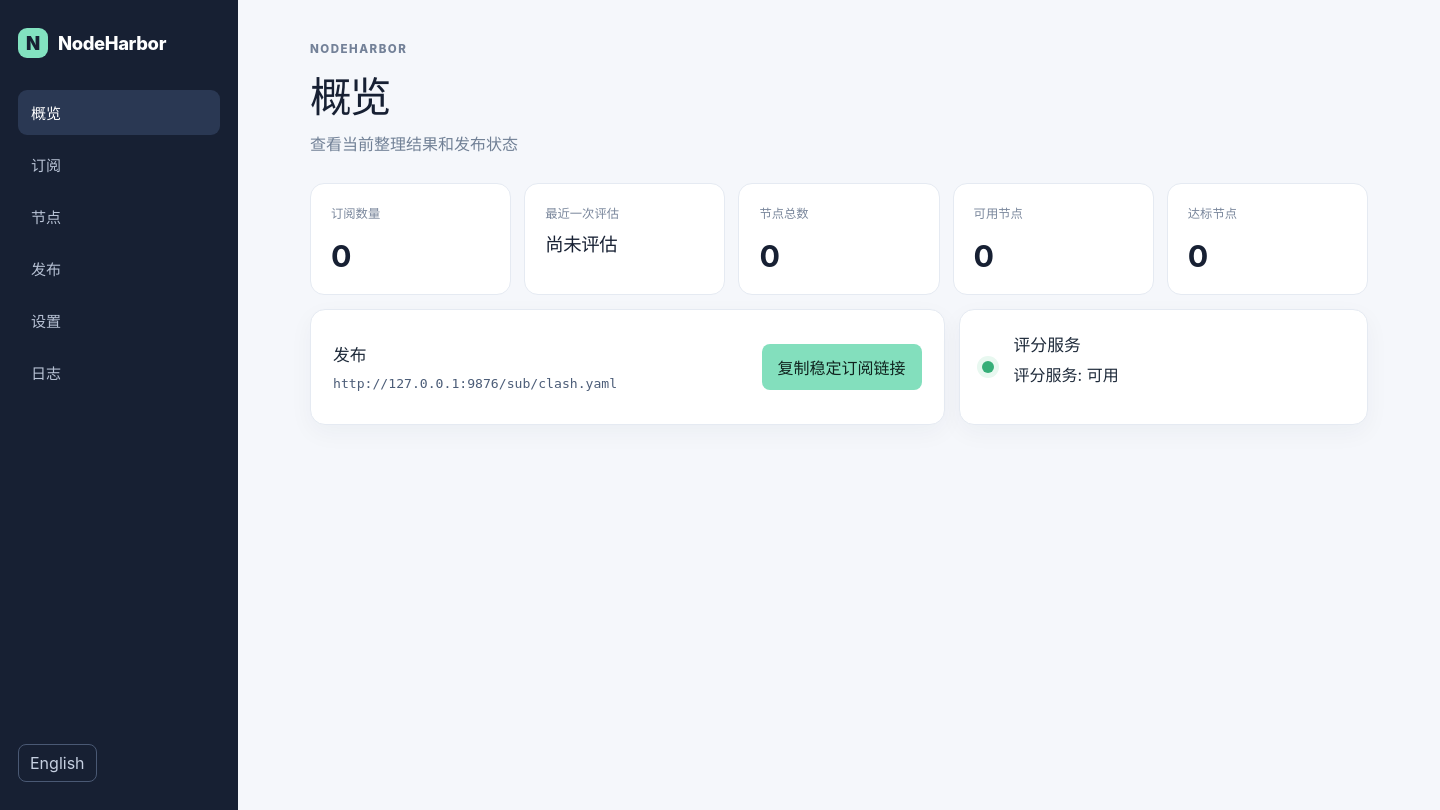
Test case: Logs displays refresh, node, scoring, publication, Mihomo, and browser-runtime diagnostics
The width and height of the screenshot is (1440, 810).
Click the link "日志" at (46, 374), box [31,364,61,383]
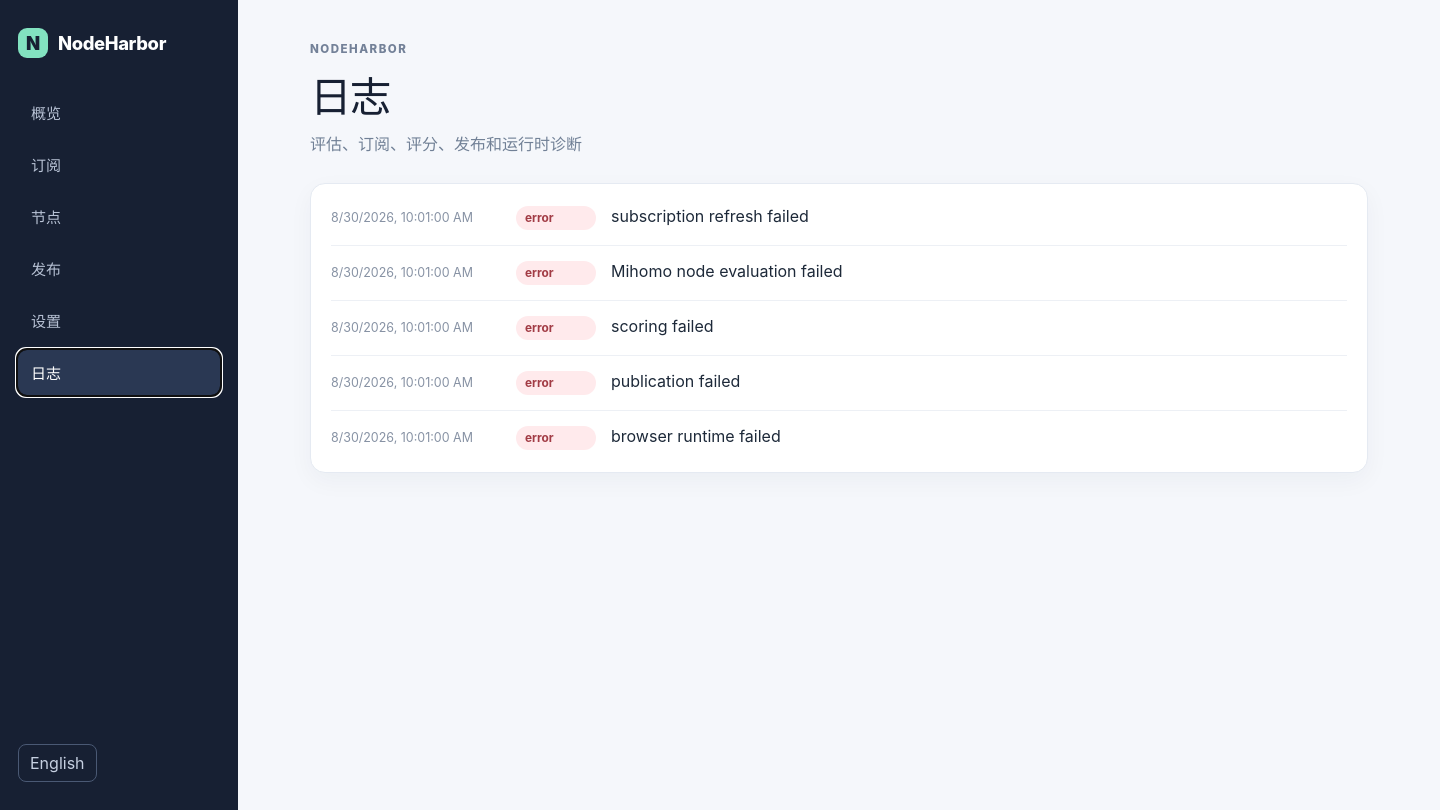
Expected: the heading "日志" is shown, [310,72,390,122]
Expected: the text "subscription refresh failed" is shown, [611,206,809,226]
Expected: the text "Mihomo node evaluation failed" is shown, [611,261,843,281]
